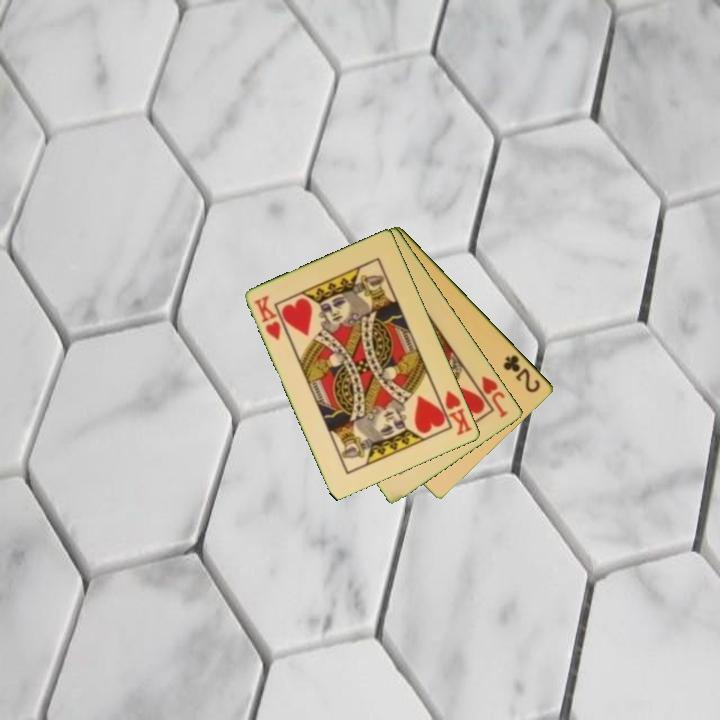2c: (500, 351, 543, 395)
Jh: (478, 372, 511, 420)
Kh: (434, 387, 475, 438), (251, 292, 284, 343)
